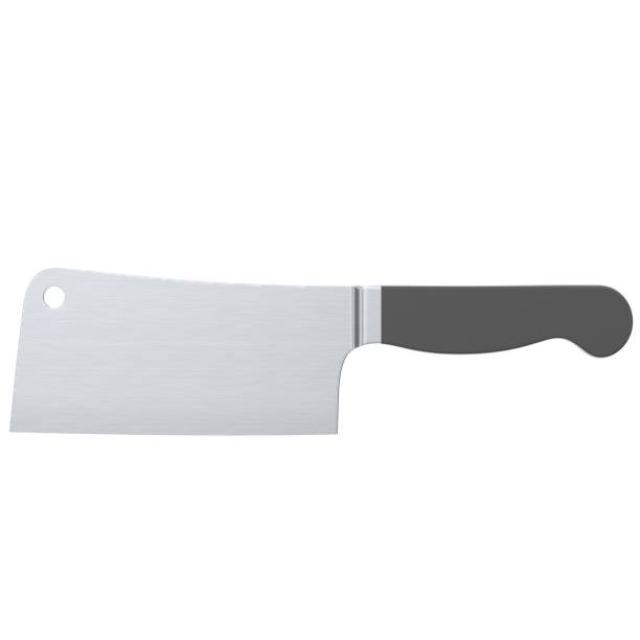knife: (1, 255, 636, 462)
